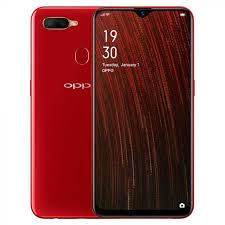oppo: (88, 2, 197, 221), (28, 3, 99, 223)
